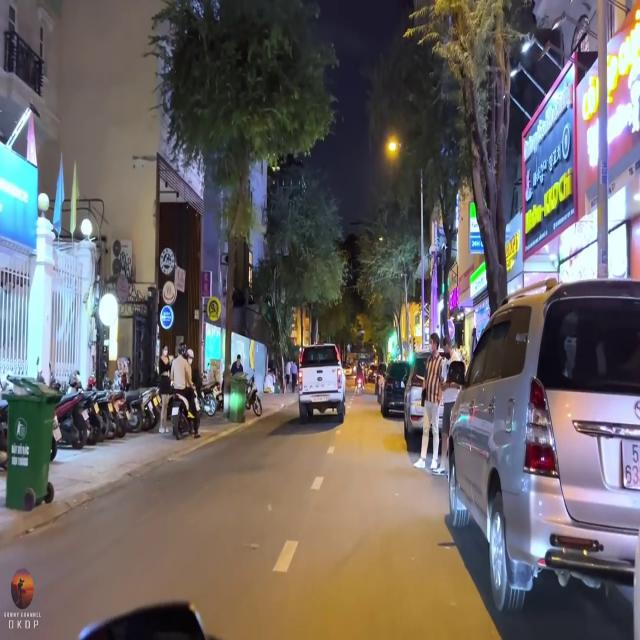bien_trang: (620, 437, 640, 487)
